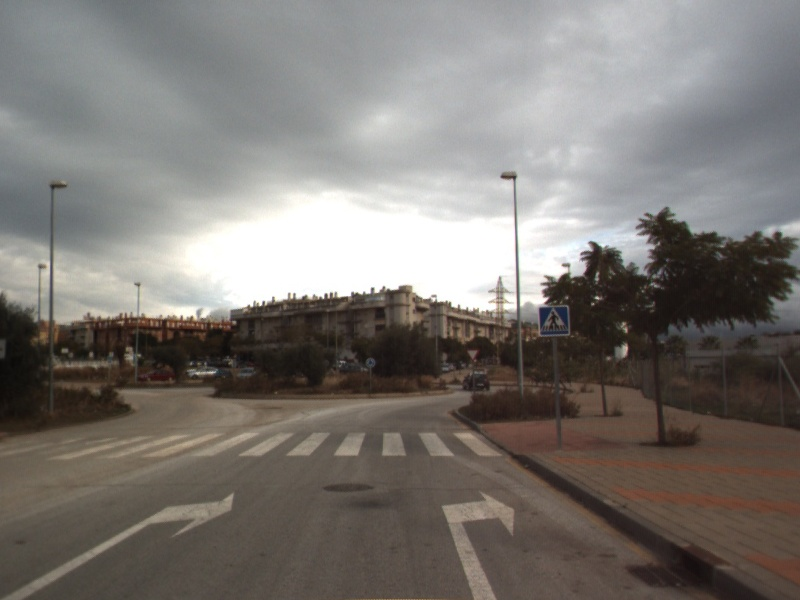RIGHT: (1, 489, 236, 600), (439, 488, 517, 600)
